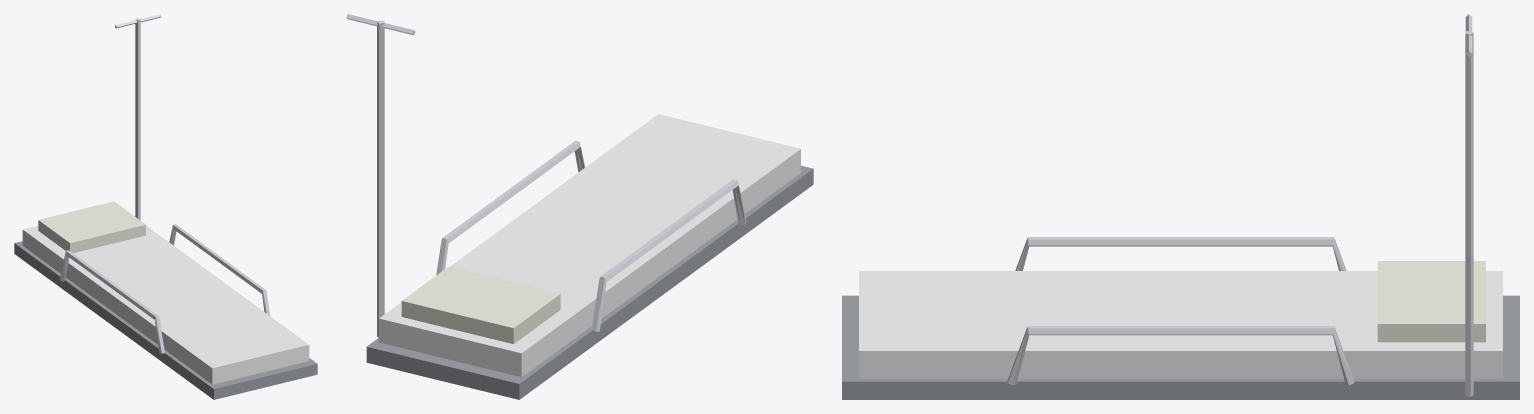
File: Gurney.obj
3 renders of one model, left to right at view 1: azimuth 30°, elevation 25°; view 2: azimuth 150°, elevation 25°; view 3: azimuth 270°, elevation 25°, orthographic. The views are drawn at different scales.
Parts seen in each view (by area): view 1: Gurney; view 2: Gurney; view 3: Gurney.
Boxes of the visible parts, x1=… form: Gurney: x1=14, y1=14, x2=317, y2=399; Gurney: x1=346, y1=14, x2=813, y2=399; Gurney: x1=842, y1=14, x2=1519, y2=399.
Size of the model in its own units: 0.7843 by 1.21 by 2.
Materials: 1 (1 with a texture image).
